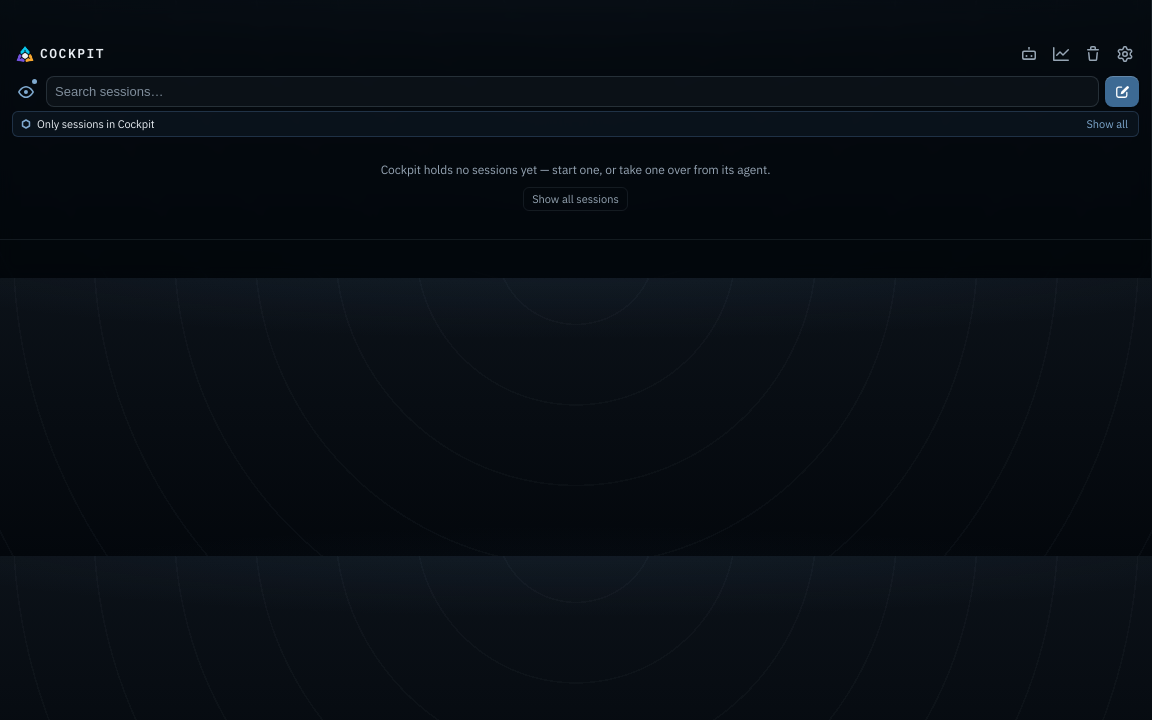
Test case: who drives a session › takes a project out of the tree when none of its sessions are on that side
The image size is (1152, 720).
Expected: the text "Cockpit holds no sessions yet" is shown, [381,162,770,177]
Click the button "Show all sessions": (576, 199) [523,187,628,211]
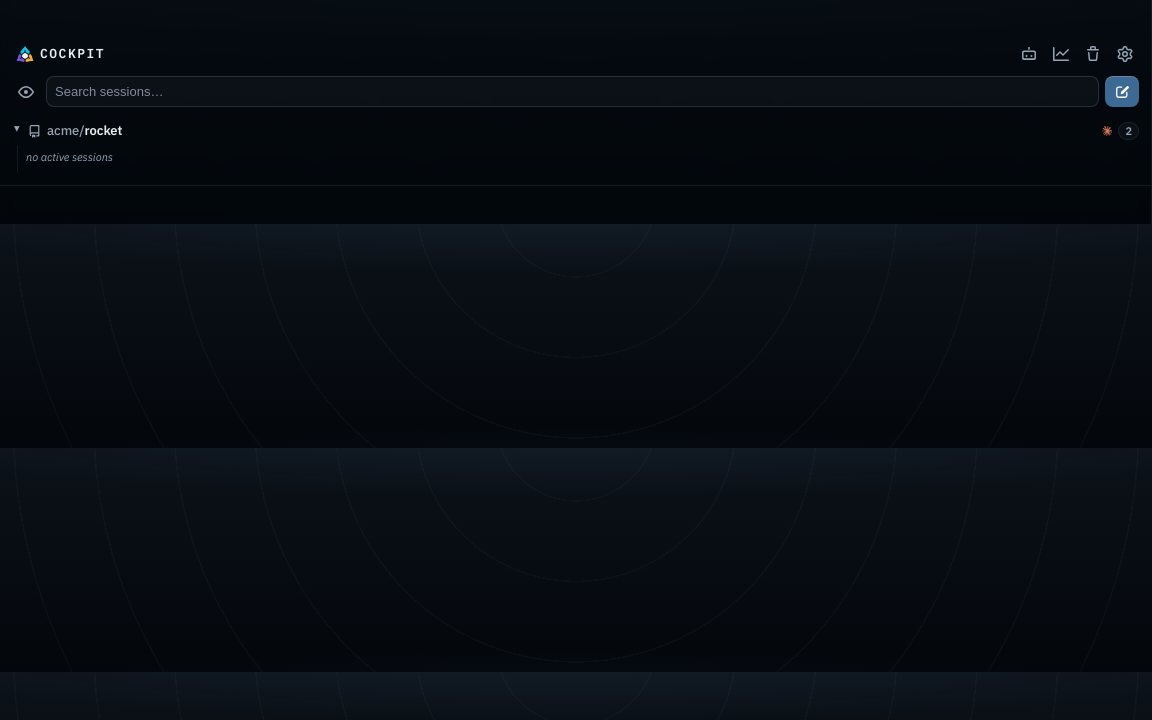
Expected: the list item "▸ acme/rocket 2" is shown, [6,116,1145,146]
